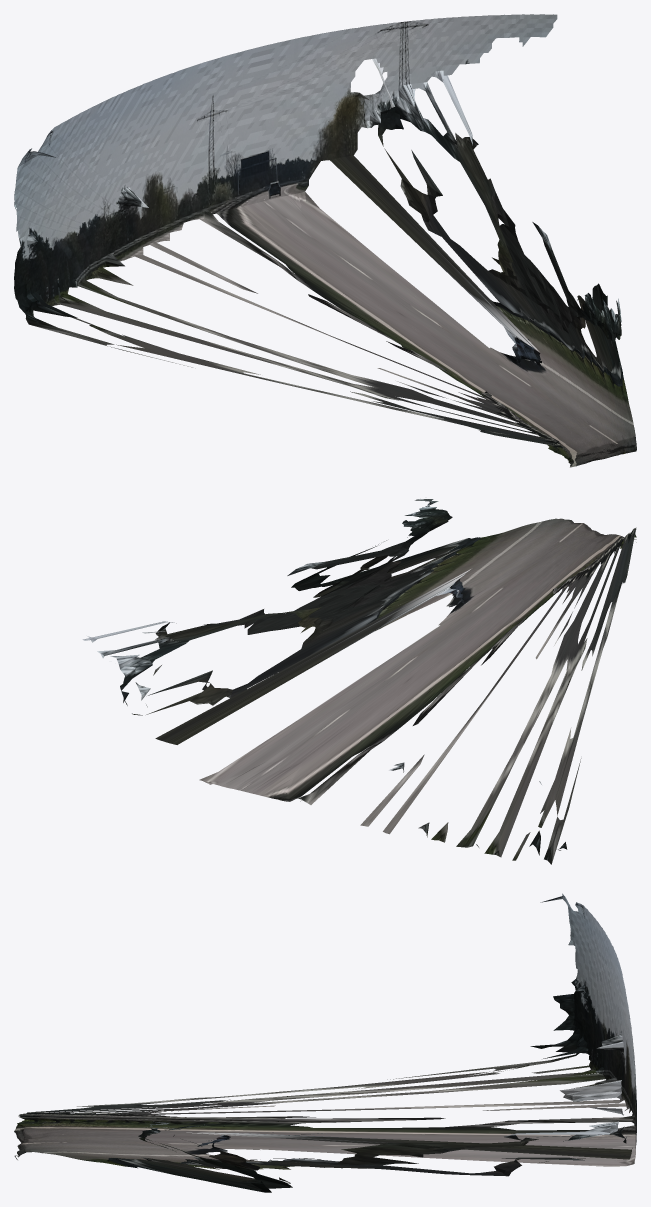
3 renders of one model, top to bottom at view 1: azimuth 30°, elevation 25°; view 2: azimuth 150°, elevation 25°; view 3: azimuth 270°, elevation 25°, orthographic. The views are drawn at different scales.
Parts seen in each view (by area): view 1: defaultobject; view 2: defaultobject; view 3: defaultobject.
Part boxes in pixels (x1,y1,x2,y2): defaultobject: (14,14,636,467); defaultobject: (82,499,636,864); defaultobject: (14,893,636,1192).
Bounding box in the file's own units: 39.92 × 13.59 × 44.45.
Materials: 1 (1 with a texture image).
